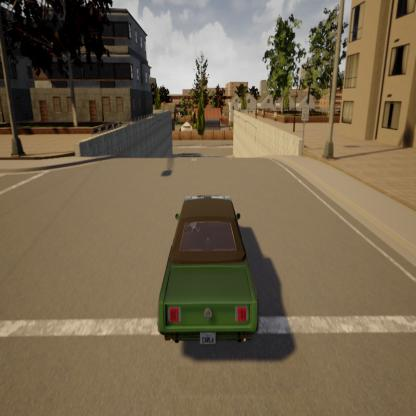Cars: (150, 190, 268, 368)
